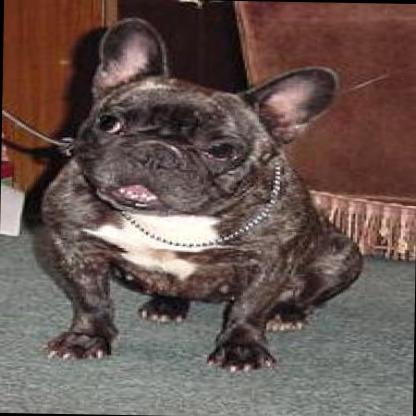French_bulldog: (34, 15, 368, 370)
